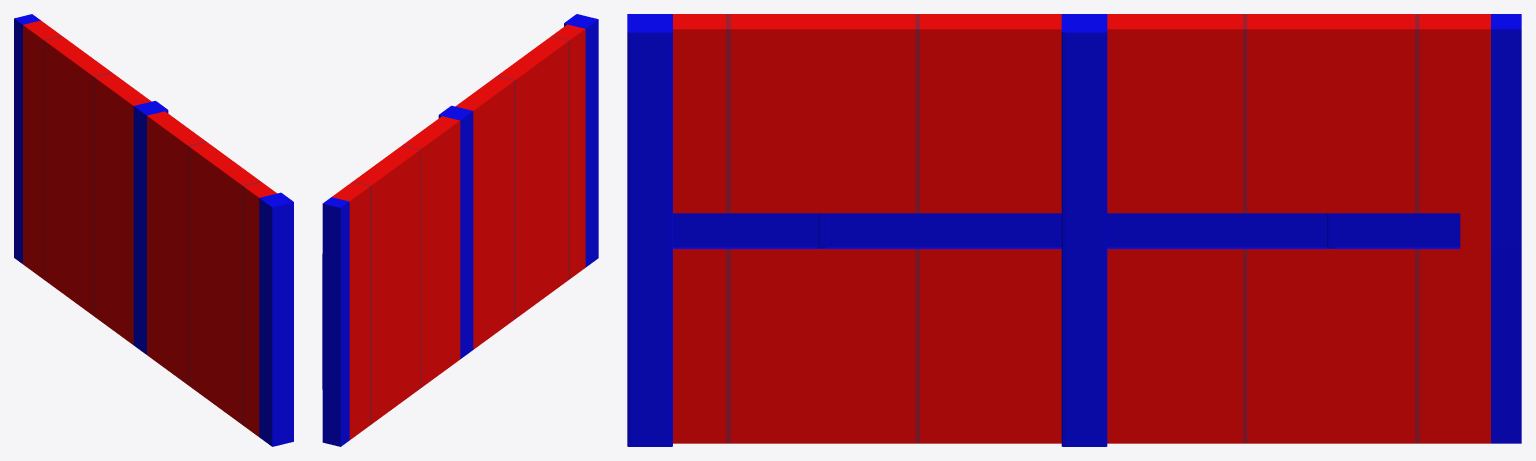
Rendered from BlankWall 1.fbx.
3 renders of one model, left to right at view 1: azimuth 30°, elevation 25°; view 2: azimuth 150°, elevation 25°; view 3: azimuth 270°, elevation 25°, orthographic. The views are drawn at different scales.
Visible parts, largest first — view 1: BlankWall; view 2: BlankWall; view 3: BlankWall.
Boxes of the visible parts, x1,y1,x2,y2 form: BlankWall: (14,14,293,446); BlankWall: (322,14,598,446); BlankWall: (627,14,1521,446).
Bounding box in the file's own units: 1197 × 58.8 × 612.
